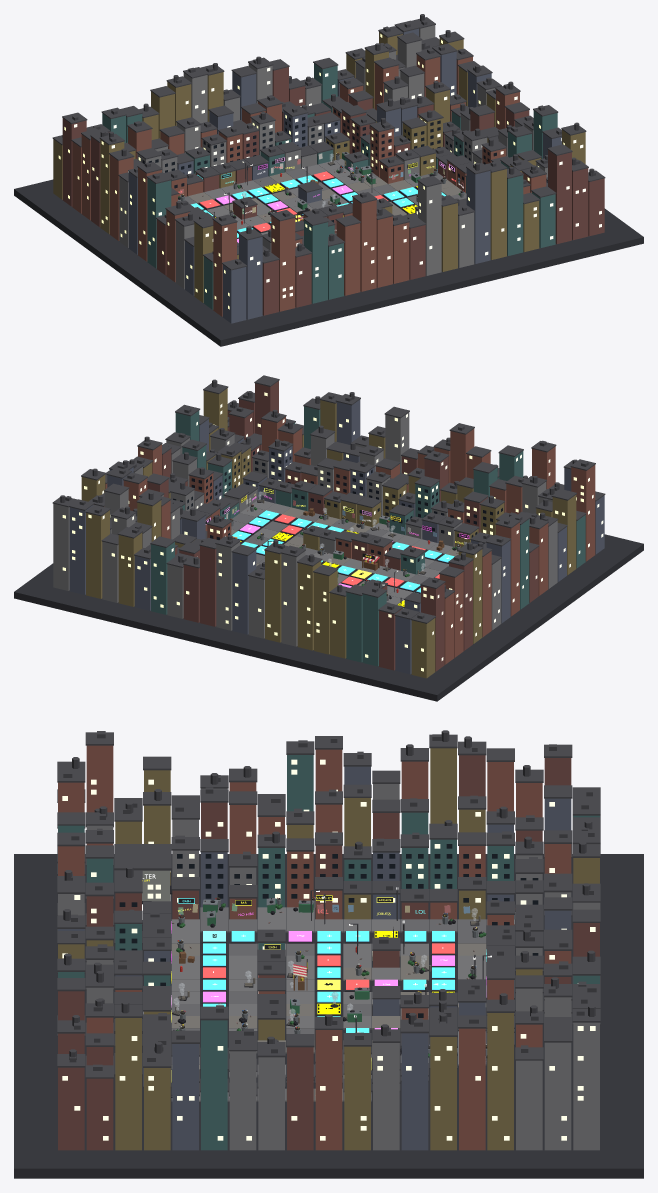
File: gameBoard.glb
The picture shows the model from 3 angles, top to bottom: view 1: azimuth 30°, elevation 25°; view 2: azimuth 150°, elevation 25°; view 3: azimuth 270°, elevation 25°; orthographic projection. The views are drawn at different scales.
Visible parts, largest first — view 1: Ground_Asphalt, Sidewalks, Bld_-2_-5, Bld_10_-5, Bld_7_-5, Bld_15_-5, Bld_3_-5, Bld_-4_-5, Bld_0_-5, Bld_11_-5, Bld_-5_-4, Bld_-5_-5 (+75 smaller); view 2: Ground_Asphalt, Sidewalks, Bld_15_13, Bld_3_13, Bld_4_13, Bld_-5_-4, Bld_6_13, Bld_2_13, Bld_7_13, Bld_16_13, Bld_17_13, Bld_1_13 (+80 smaller); view 3: Ground_Asphalt, Sidewalks, Bld_17_10, Bld_17_-3, Bld_17_0, Bld_17_13, Bld_17_4, Bld_17_7, Bld_17_9, Bld_17_8, Bld_17_12, Bld_17_6 (+90 smaller).
Boxes of the visible parts, x1=… form: Ground_Asphalt: x1=14, y1=164, x2=643, y2=346; Sidewalks: x1=178, y1=158, x2=466, y2=234; Bld_-2_-5: x1=270, y1=210, x2=295, y2=311; Bld_10_-5: x1=466, y1=163, x2=491, y2=263; Bld_7_-5: x1=417, y1=176, x2=442, y2=275; Bld_15_-5: x1=547, y1=144, x2=572, y2=243; Bld_3_-5: x1=352, y1=192, x2=377, y2=291; Bld_-4_-5: x1=238, y1=226, x2=263, y2=319; Bld_0_-5: x1=303, y1=214, x2=328, y2=303; Bld_11_-5: x1=484, y1=161, x2=507, y2=259; Bld_-5_-4: x1=212, y1=214, x2=237, y2=316; Bld_-5_-5: x1=222, y1=259, x2=246, y2=323; Ground_Asphalt: x1=14, y1=514, x2=643, y2=701; Sidewalks: x1=231, y1=499, x2=458, y2=604; Bld_15_13: x1=85, y1=505, x2=110, y2=598; Bld_3_13: x1=280, y1=545, x2=305, y2=646; Bld_4_13: x1=264, y1=539, x2=288, y2=642; Bld_-5_-4: x1=570, y1=459, x2=595, y2=561; Bld_6_13: x1=231, y1=544, x2=256, y2=634; Bld_2_13: x1=297, y1=554, x2=322, y2=650; Bld_7_13: x1=215, y1=535, x2=240, y2=630; Bld_16_13: x1=69, y1=499, x2=94, y2=594; Bld_17_13: x1=52, y1=495, x2=77, y2=590; Bld_1_13: x1=313, y1=564, x2=338, y2=654; Ground_Asphalt: x1=14, y1=854, x2=643, y2=1178; Sidewalks: x1=143, y1=907, x2=514, y2=1101; Bld_17_10: x1=486, y1=993, x2=514, y2=1150; Bld_17_-3: x1=114, y1=1001, x2=142, y2=1150; Bld_17_0: x1=200, y1=1005, x2=228, y2=1150; Bld_17_13: x1=572, y1=1005, x2=600, y2=1150; Bld_17_4: x1=315, y1=1014, x2=342, y2=1150; Bld_17_7: x1=400, y1=1013, x2=428, y2=1150; Bld_17_9: x1=458, y1=1015, x2=486, y2=1150; Bld_17_8: x1=429, y1=1023, x2=457, y2=1150; Bld_17_12: x1=544, y1=1029, x2=572, y2=1150; Bld_17_6: x1=372, y1=1024, x2=400, y2=1150.
Bounding box in the file's own units: 67.6 × 15.83 × 57.2.
